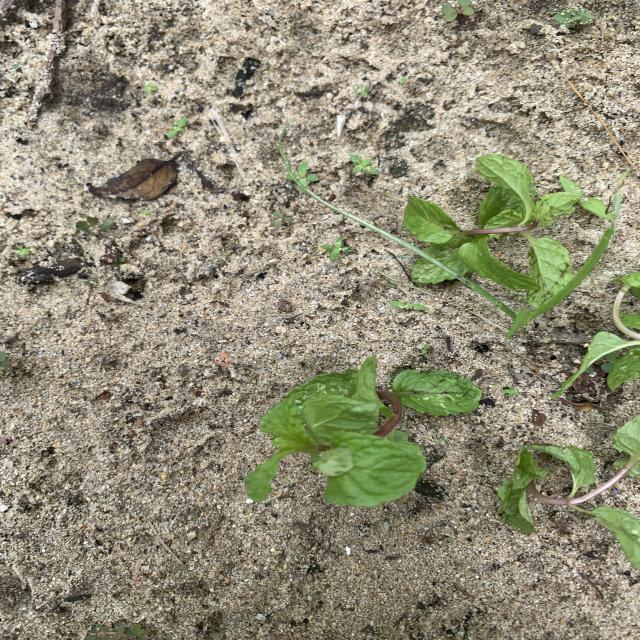crop: (245, 356, 481, 506), (404, 155, 582, 307), (498, 416, 640, 532), (551, 272, 640, 397), (579, 507, 640, 569)
weed: (305, 190, 615, 339), (559, 176, 612, 220), (84, 623, 152, 640), (550, 7, 594, 31), (319, 236, 357, 262), (286, 160, 319, 188), (75, 216, 117, 237), (350, 154, 378, 183), (441, 0, 474, 22), (596, 352, 618, 373), (166, 117, 186, 138), (390, 301, 428, 311), (271, 211, 292, 228), (0, 350, 15, 373), (13, 243, 33, 260), (354, 87, 372, 101), (501, 386, 520, 398), (143, 82, 159, 95), (421, 344, 430, 354)
